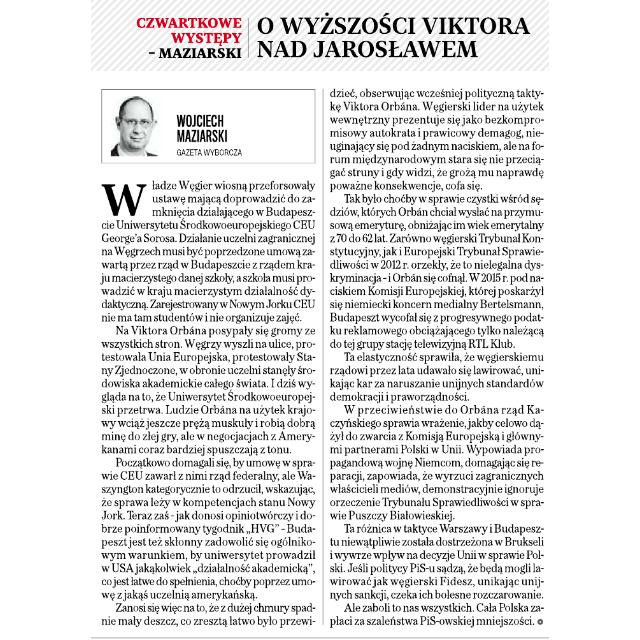author: (174, 108, 232, 146)
body: (327, 86, 549, 632), (96, 175, 320, 631)
title: (132, 10, 536, 66)
